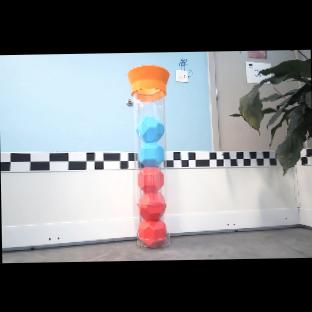V5_BLUE: (134, 113, 164, 141), (137, 142, 163, 167)
V5_RED: (138, 217, 169, 247), (136, 190, 166, 217), (137, 167, 164, 193)
